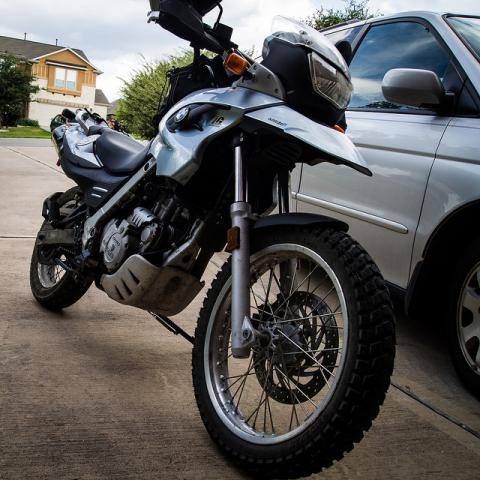car: (291, 10, 479, 396)
motorcycle: (29, 0, 396, 479)
